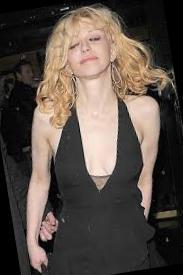Drunk: (63, 20, 113, 77)
